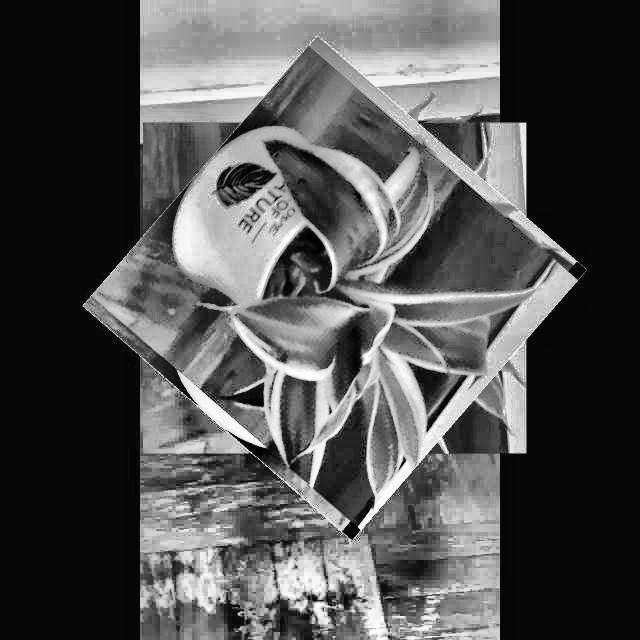plants: (120, 72, 550, 504)
